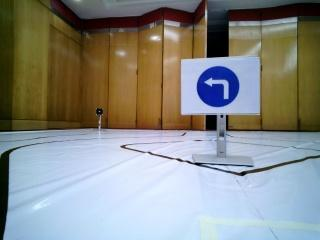left: (193, 65, 253, 109)
